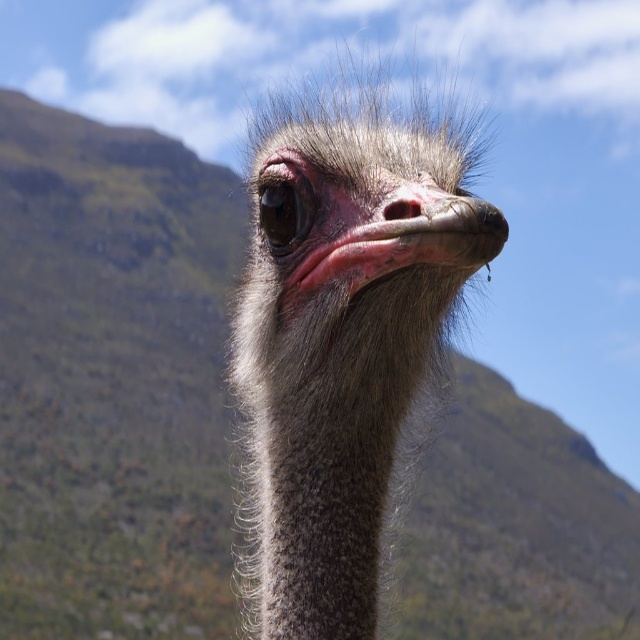Ostrich: (224, 55, 510, 639)
